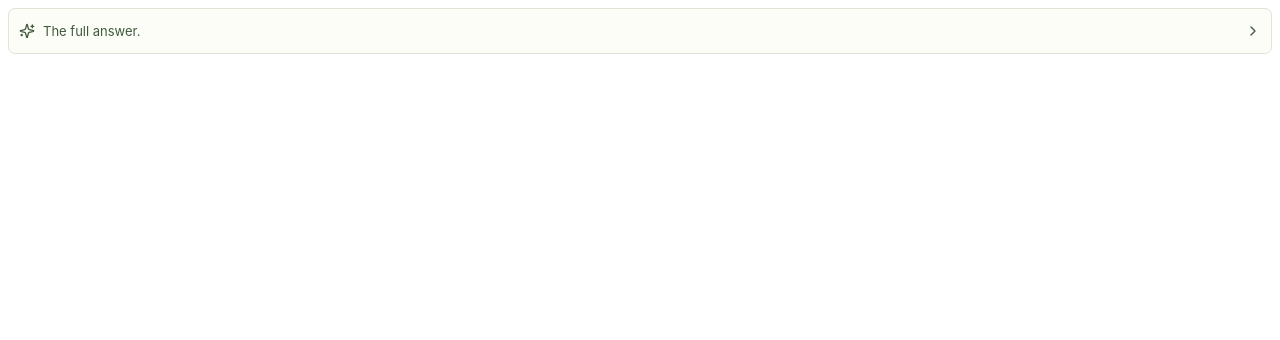
Test: saved note cards › uses the original answer for legacy AI notes and preserves the question and model
Step 1. Click the button with aria-label "Expand note:" → point(92, 31), box [9,9,1271,53]
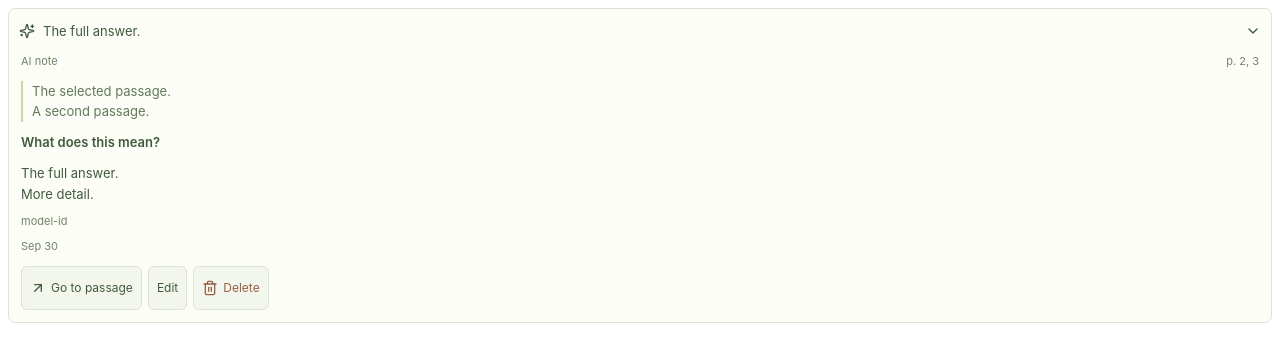
Now the heading "What does this mean?" is shown, box [21,134,160,150]
Now the text "model-id" is shown, box [21,214,68,228]
